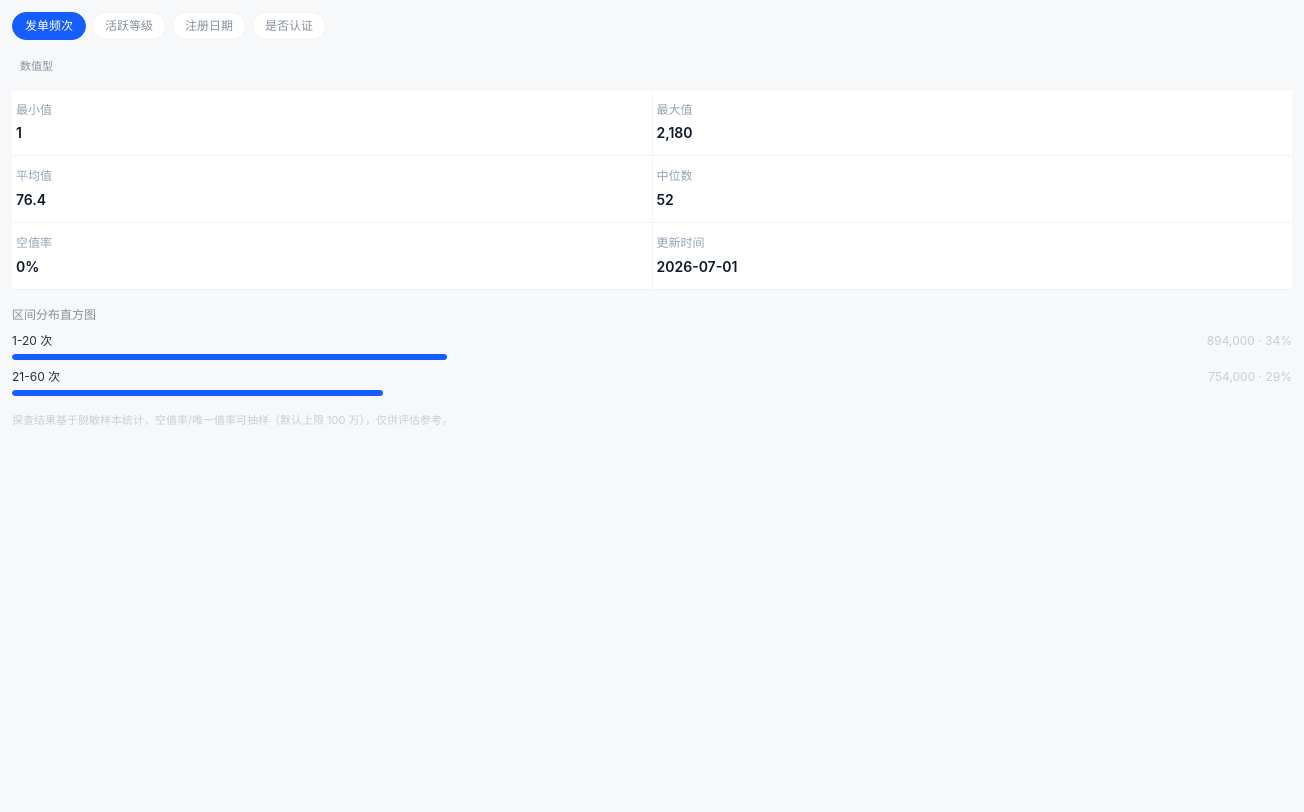
Test: FieldProfilingPanel › renders datetime scrollable chart with month grain by default
Click the tab "注册日期" at (209, 26), box 172,12 -> 246,40
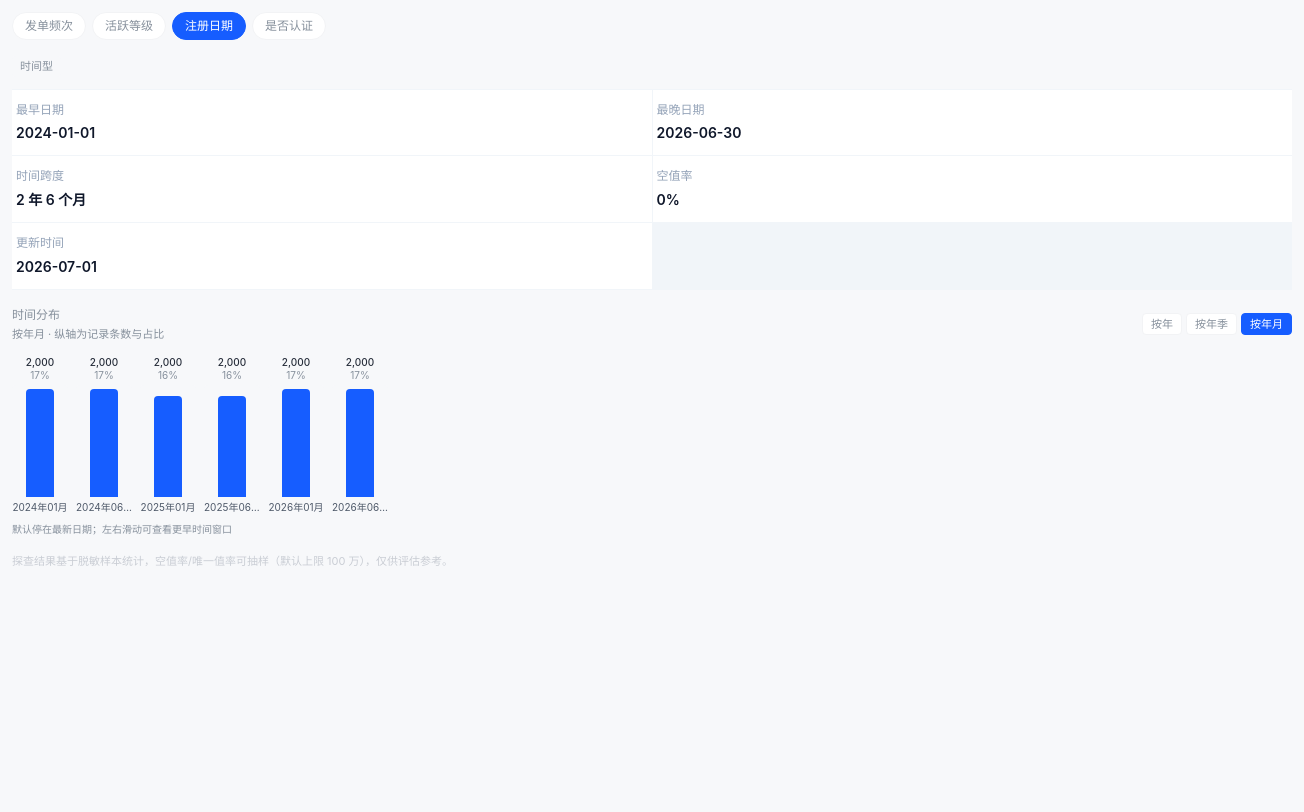
Check: the text "时间型" is shown, box 12,56 -> 61,76
Check: the text "最早日期" is shown, box 16,102 -> 64,116
Check: the text "2024-01-01" is shown, box 16,124 -> 95,141
